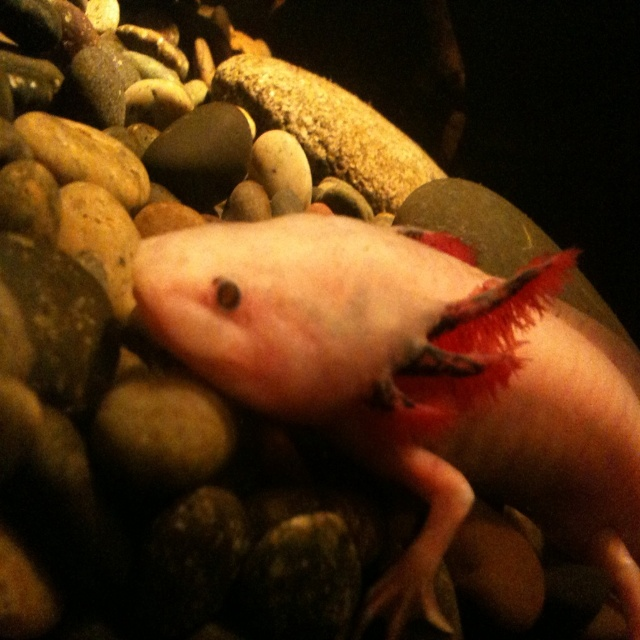Fish: (132, 235, 640, 639)
